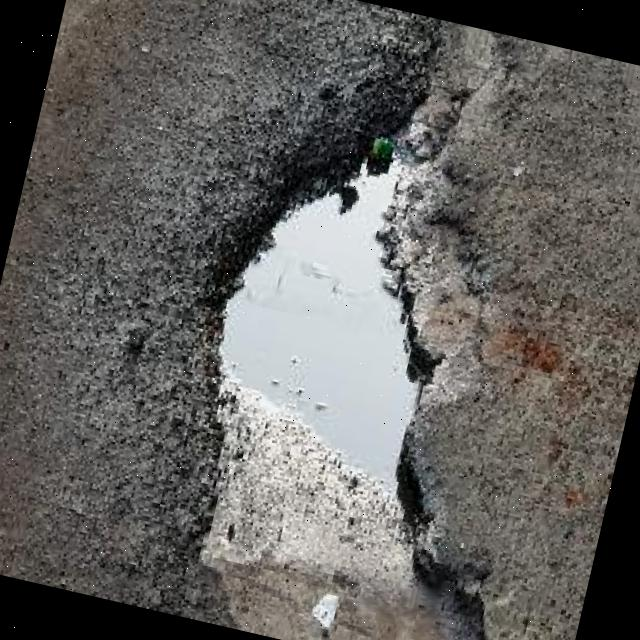waterlogging: (145, 115, 501, 640)
